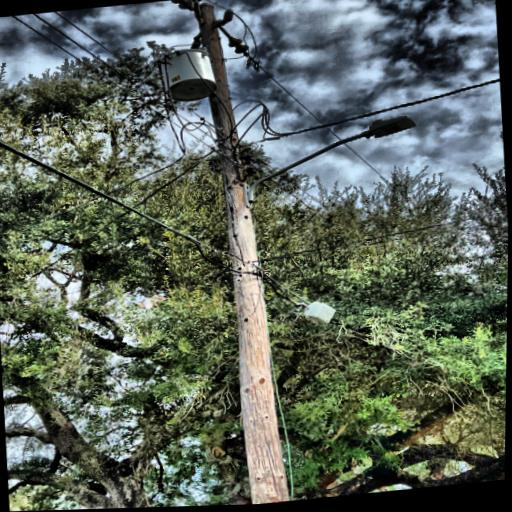pole: (174, 0, 330, 507)
street light: (237, 113, 423, 210)
transformer: (155, 46, 219, 105)
